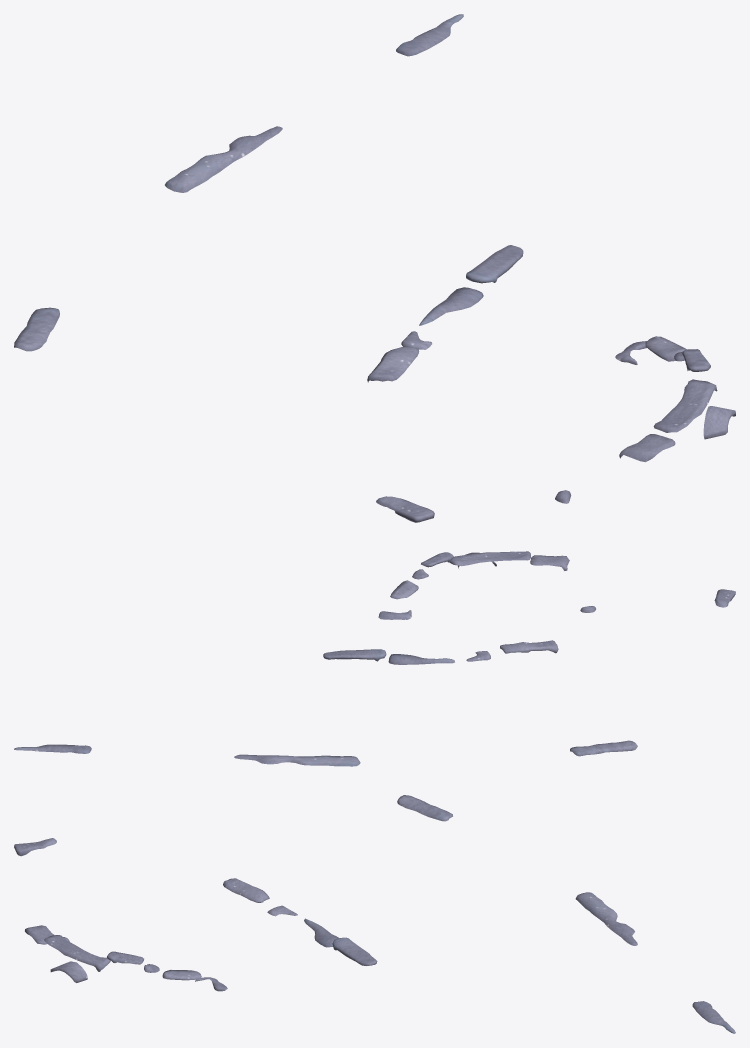
Rendered from pref_sm_beach_winter_snow09_lv2.fbx.
3 renders of one model, top to bottom at view 1: azimuth 30°, elevation 25°; view 2: azimuth 150°, elevation 25°; view 3: azimuth 270°, elevation 25°, orthographic. The views are drawn at different scales.
Parts seen in each view (by area): view 1: pref_sm_beach_winter_snow09_lv2; view 2: pref_sm_beach_winter_snow09_lv2; view 3: pref_sm_beach_winter_snow09_lv2.
Boxes of the visible parts, x1,y1,x2,y2 form: pref_sm_beach_winter_snow09_lv2: (14,14,735,522); pref_sm_beach_winter_snow09_lv2: (14,551,735,766); pref_sm_beach_winter_snow09_lv2: (14,795,735,1033).
Size of the model in its own units: 24.73 by 2.3 by 31.79.
